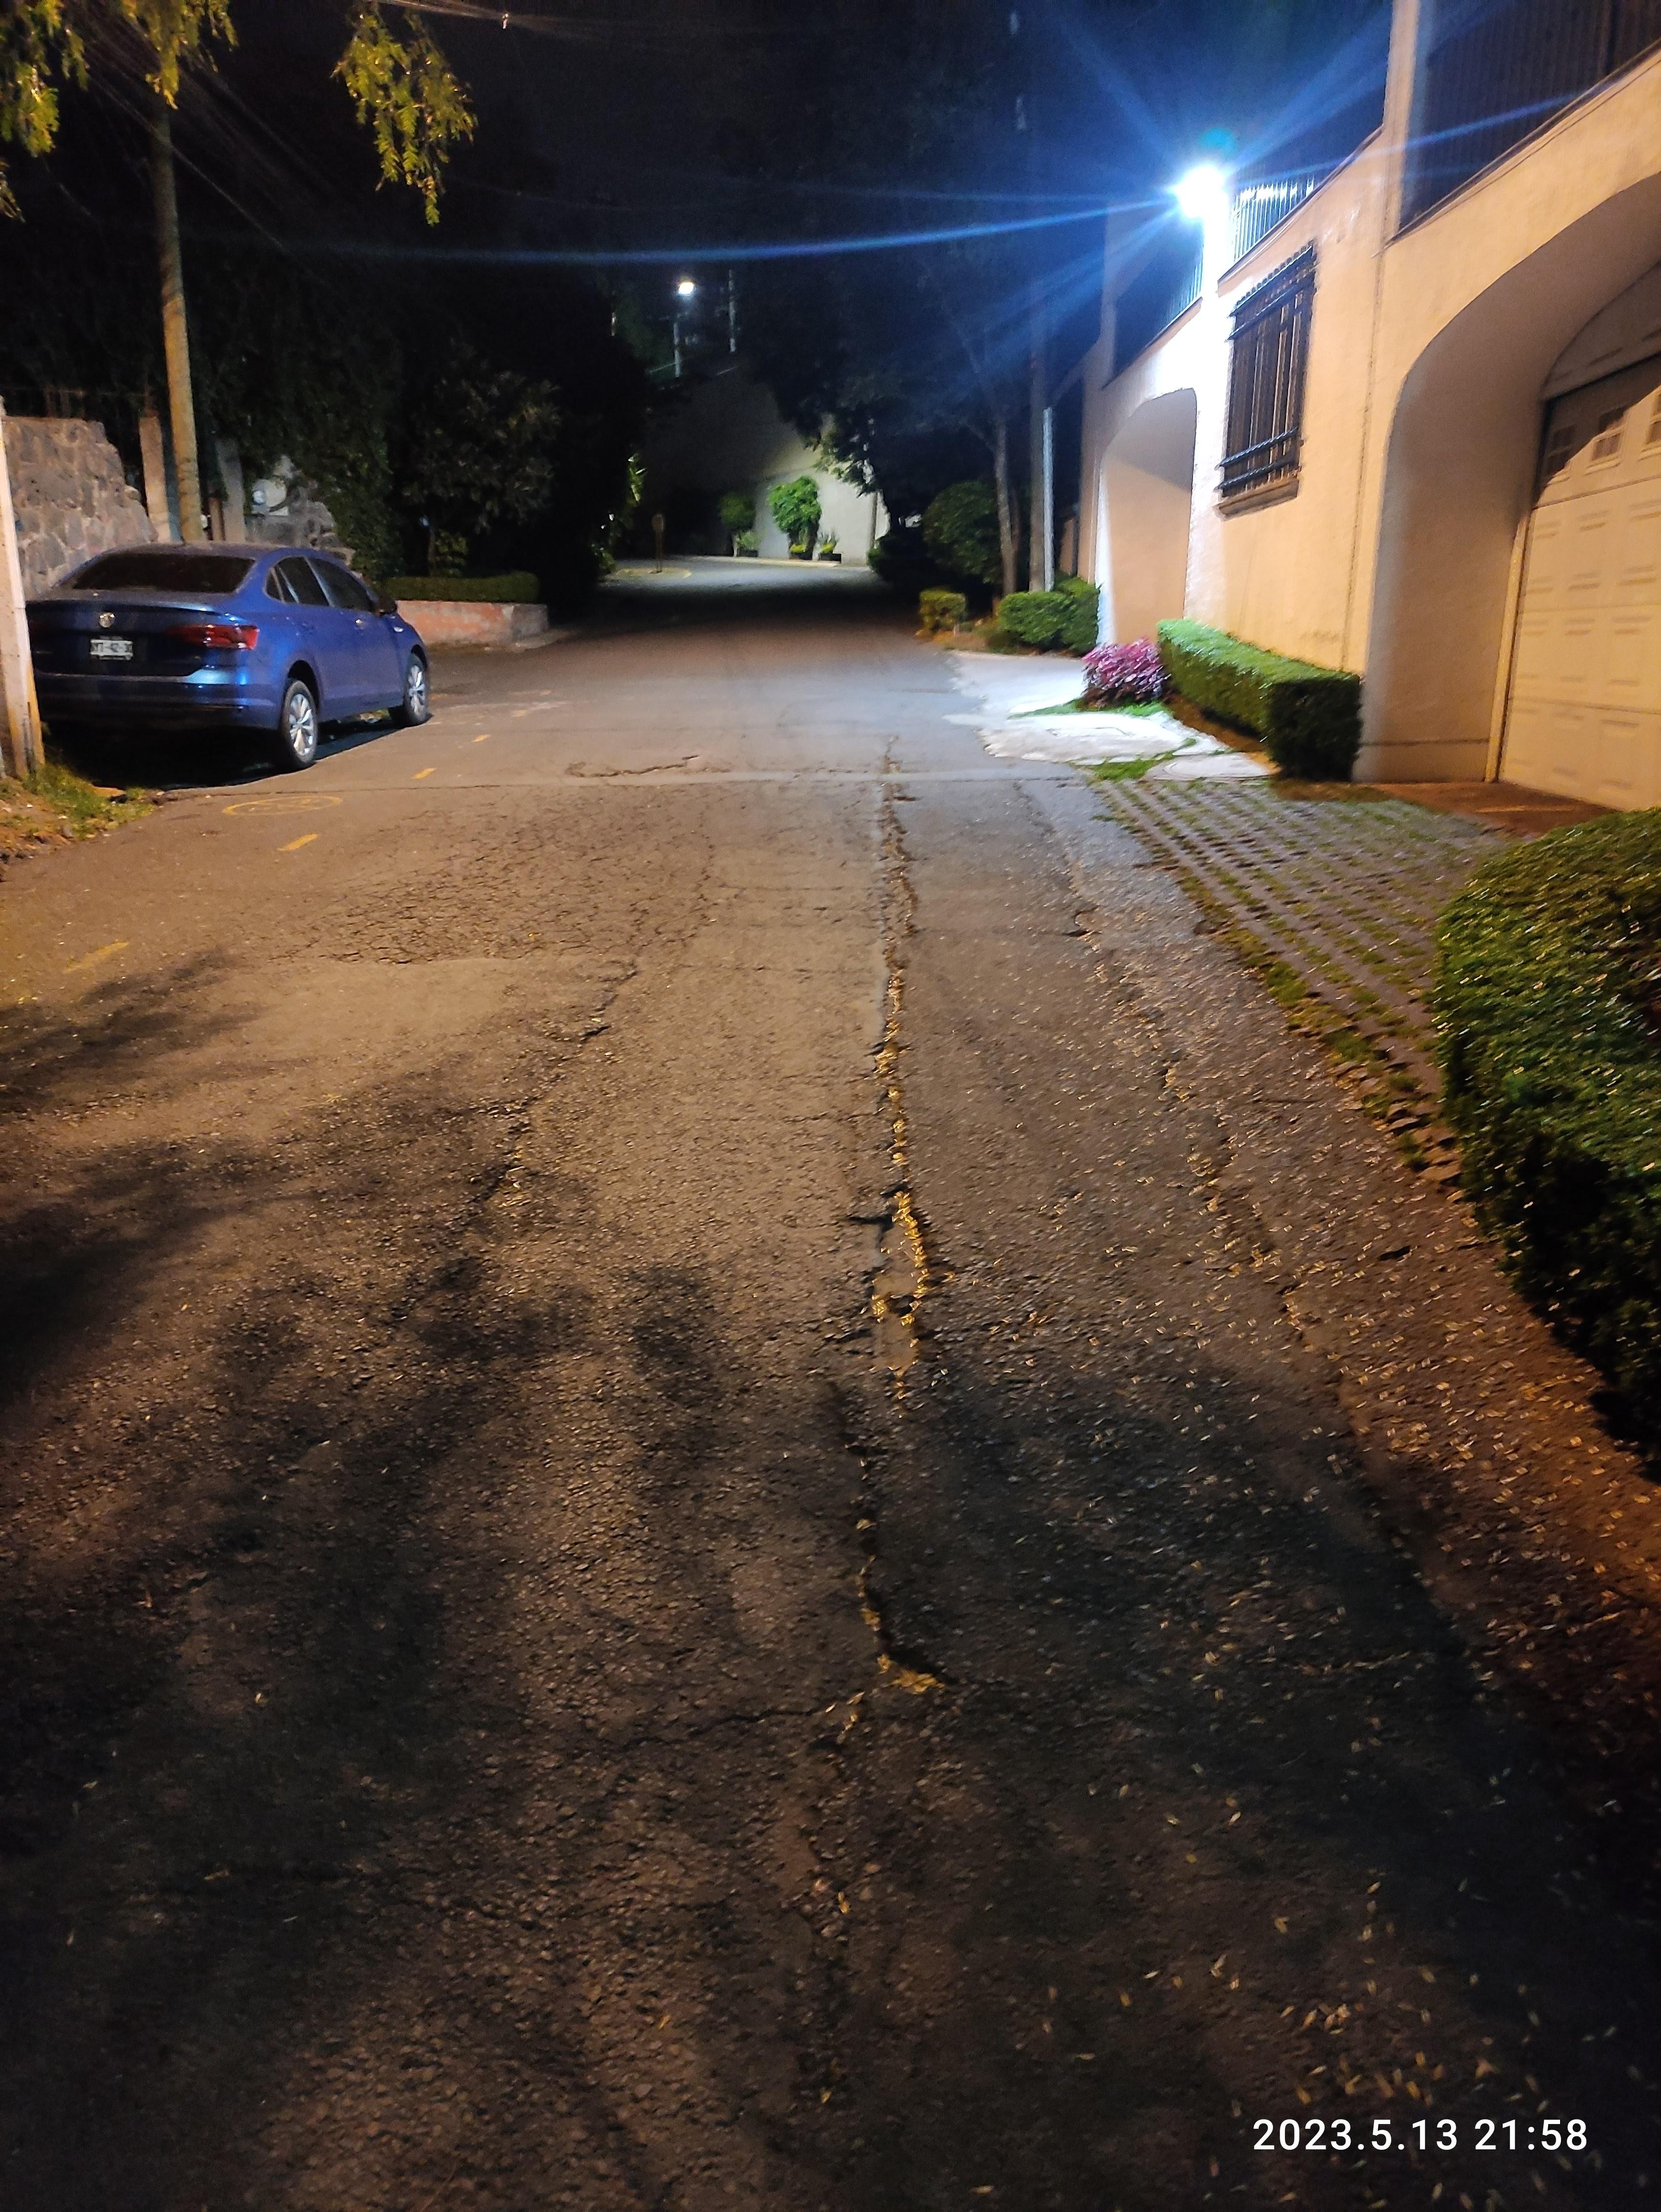crack: (1073, 815, 1382, 1643), (837, 713, 981, 1751), (1211, 1905, 1661, 2212), (461, 808, 612, 1710)
